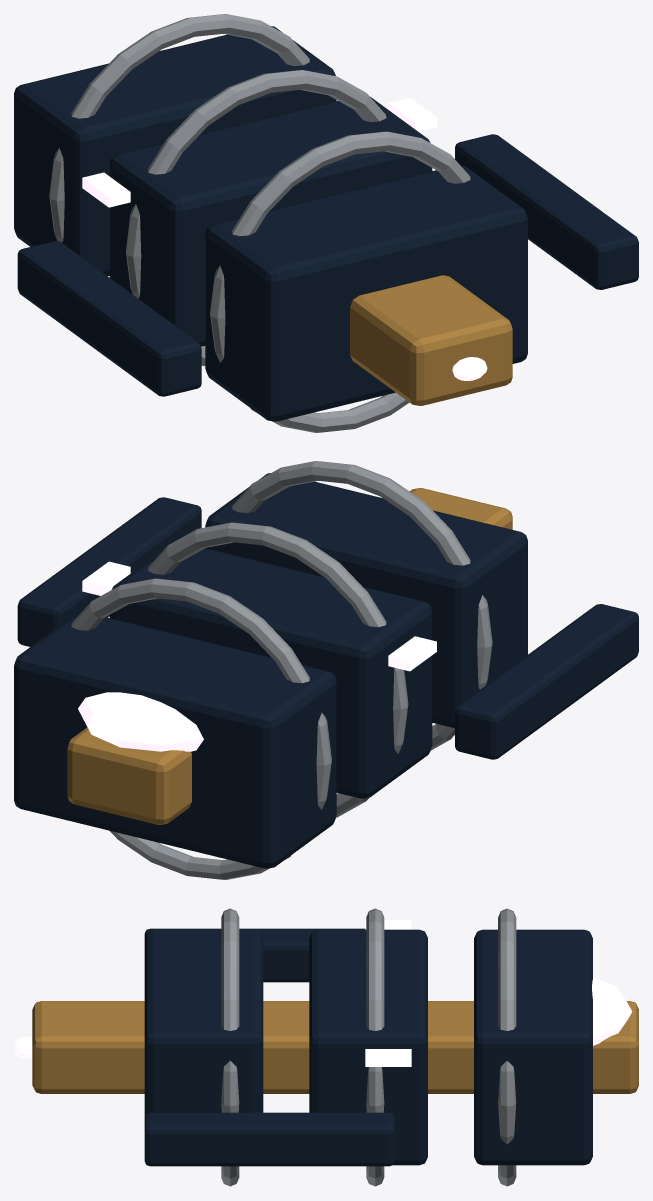
The picture shows the model from 3 angles, top to bottom: view 1: azimuth 30°, elevation 25°; view 2: azimuth 150°, elevation 25°; view 3: azimuth 270°, elevation 25°; orthographic projection. The views are drawn at different scales.
Visible parts, largest first — view 1: RIMWARD_HULL, RIMWARD_EMISSIVE, RIMWARD_ENGINE_GLOW; view 2: RIMWARD_HULL, RIMWARD_EMISSIVE; view 3: RIMWARD_HULL, RIMWARD_EMISSIVE.
Boxes of the visible parts, x1,y1,x2,y2 form: RIMWARD_HULL: (14, 14, 638, 432); RIMWARD_EMISSIVE: (82, 98, 436, 207); RIMWARD_ENGINE_GLOW: (452, 357, 487, 380); RIMWARD_HULL: (14, 461, 638, 879); RIMWARD_EMISSIVE: (78, 561, 436, 751); RIMWARD_HULL: (32, 908, 638, 1186); RIMWARD_EMISSIVE: (365, 920, 632, 1066).
Size of the model in its own units: 61.71 by 36 by 80.58.
